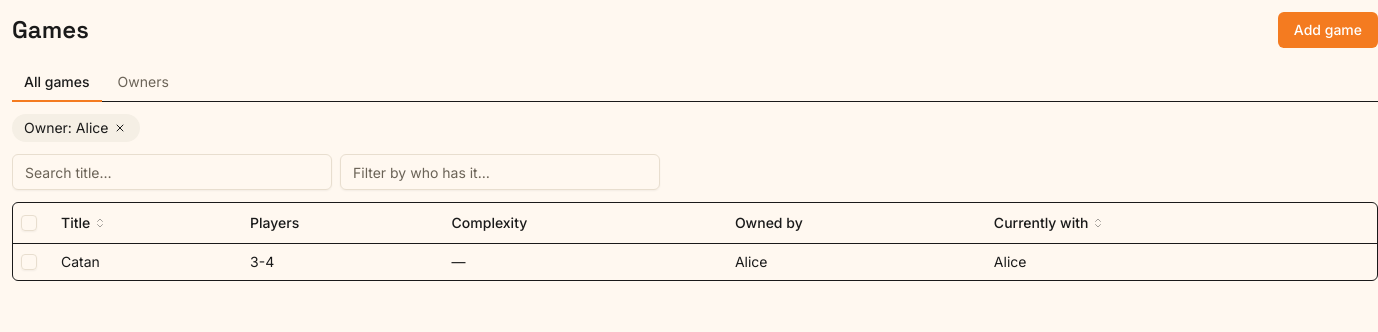
GamesList › ?owned_by=Alice filters rows and shows a clearable chip
This screenshot has width=1378, height=332.
Check: the text "Wingspan" is not shown
Check: the text "Mystery Game" is not shown
Click the button with test id "owned-by-chip-clear" at (120, 128), box [112, 120, 128, 136]
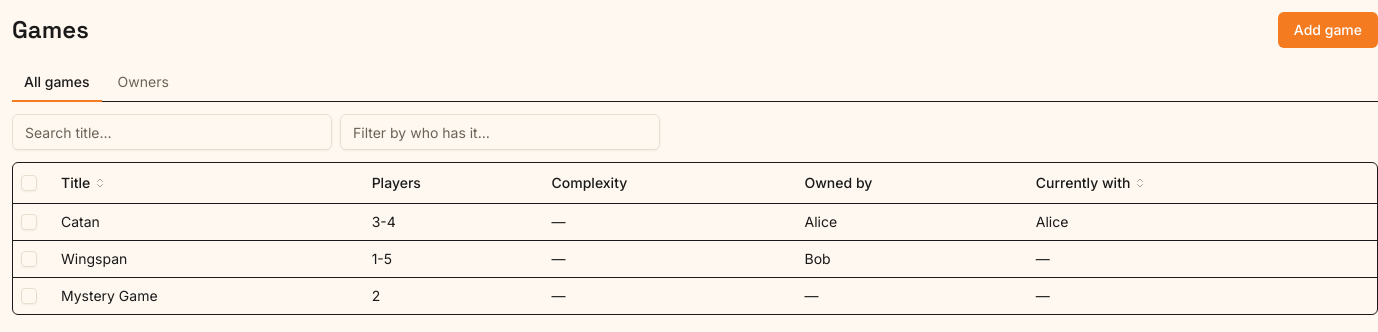
Check: the element with test id "owned-by-chip" is gone
